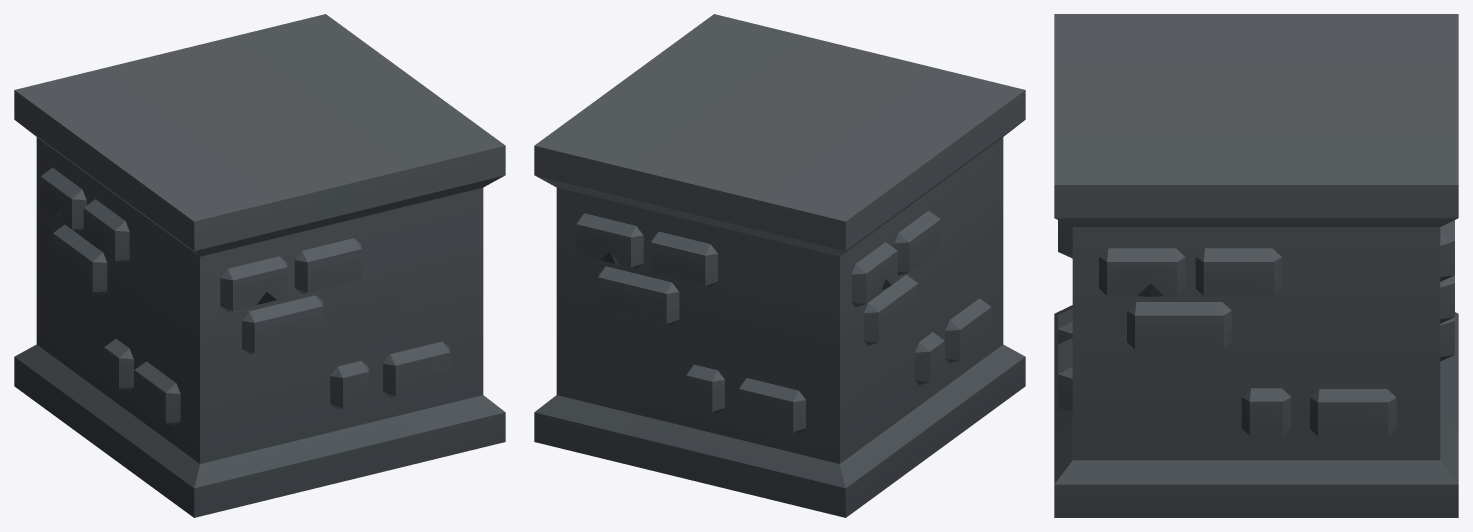
Rendered from floor_foundation_allsides.glb.
The picture shows the model from 3 angles, left to right: view 1: azimuth 30°, elevation 25°; view 2: azimuth 150°, elevation 25°; view 3: azimuth 270°, elevation 25°; orthographic projection. The views are drawn at different scales.
Parts seen in each view (by area): view 1: floor_foundation_allsides; view 2: floor_foundation_allsides; view 3: floor_foundation_allsides.
Part boxes in pixels (box(x1,y1,x2,y2)): floor_foundation_allsides: box(14, 14, 505, 517); floor_foundation_allsides: box(534, 14, 1025, 517); floor_foundation_allsides: box(1054, 14, 1458, 517).
Bounding box in the file's own units: 2.2 × 2 × 2.2.
1 material, 1 textured.
